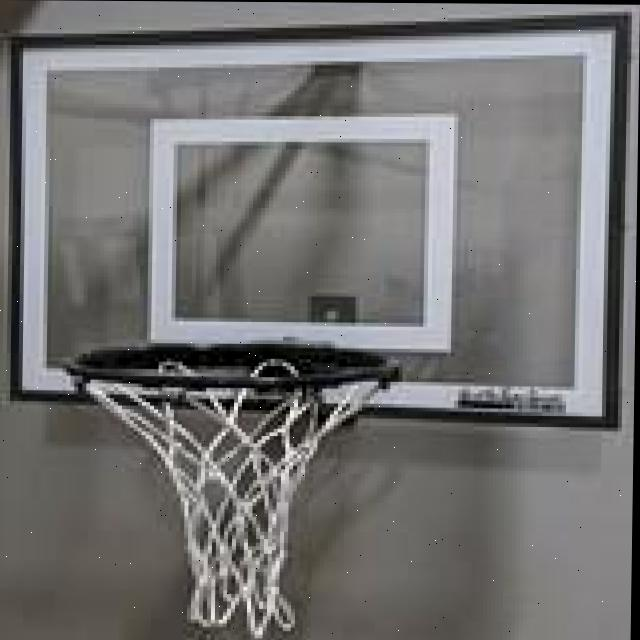hoop: (63, 343, 399, 640)
